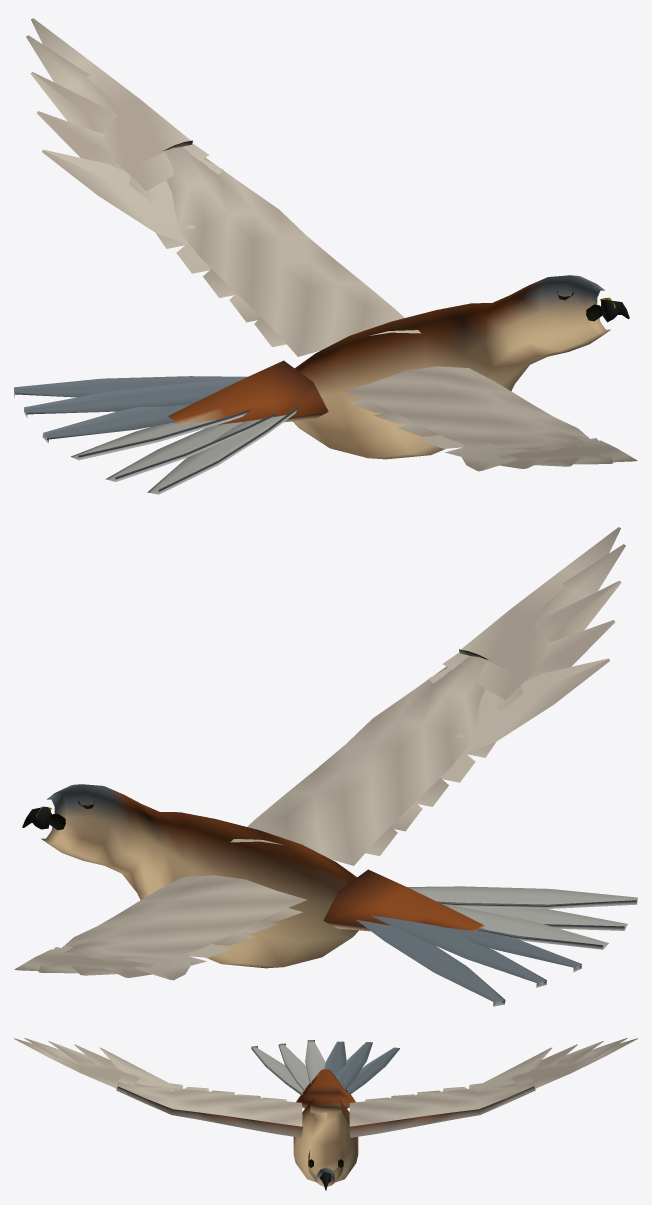
The model's file is SM_Bird_kestrel_flap1_LOD1.glb.
3 views of the same model, one above another, from view 1: azimuth 30°, elevation 25°; view 2: azimuth 150°, elevation 25°; view 3: azimuth 270°, elevation 25° (orthographic). The views are drawn at different scales.
Parts seen in each view (by area): view 1: SM_Bird_kestrel_flap1_LOD1; view 2: SM_Bird_kestrel_flap1_LOD1; view 3: SM_Bird_kestrel_flap1_LOD1.
Part boxes in pixels (x1,y1,x2,y2): SM_Bird_kestrel_flap1_LOD1: (14,18,637,494); SM_Bird_kestrel_flap1_LOD1: (14,527,637,1006); SM_Bird_kestrel_flap1_LOD1: (14,1038,637,1190).
Bounding box in the file's own units: 0.3788 × 0.1506 × 0.6957.
